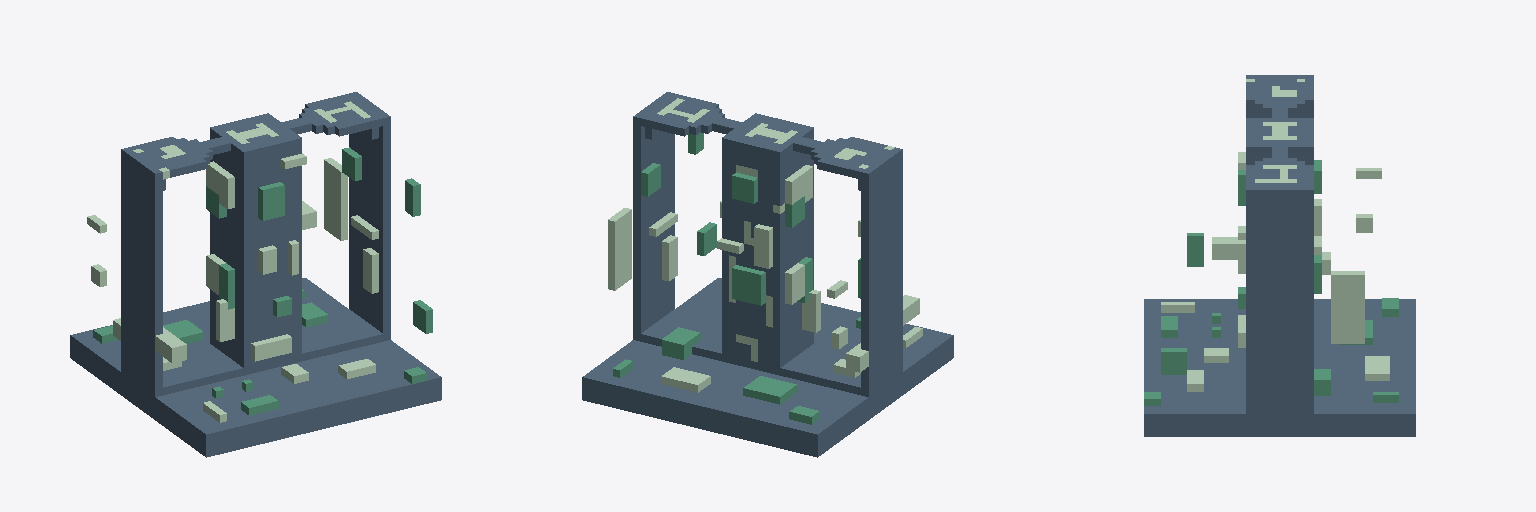
The picture shows the model from 3 angles: view 1: azimuth 30°, elevation 25°; view 2: azimuth 150°, elevation 25°; view 3: azimuth 270°, elevation 25°; orthographic projection.
Bounding box in the file's own units: 32 × 32 × 32.
1 materials, 1 textured.